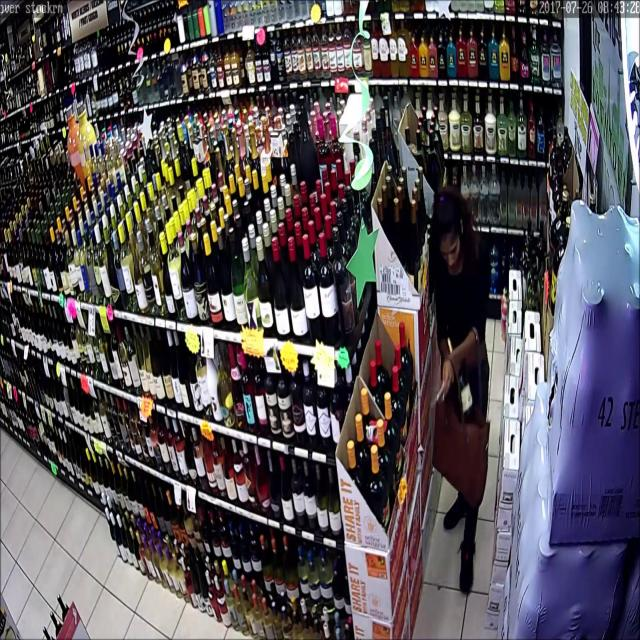Product: (448, 317, 477, 413)
shoplifting: (410, 172, 524, 551)
